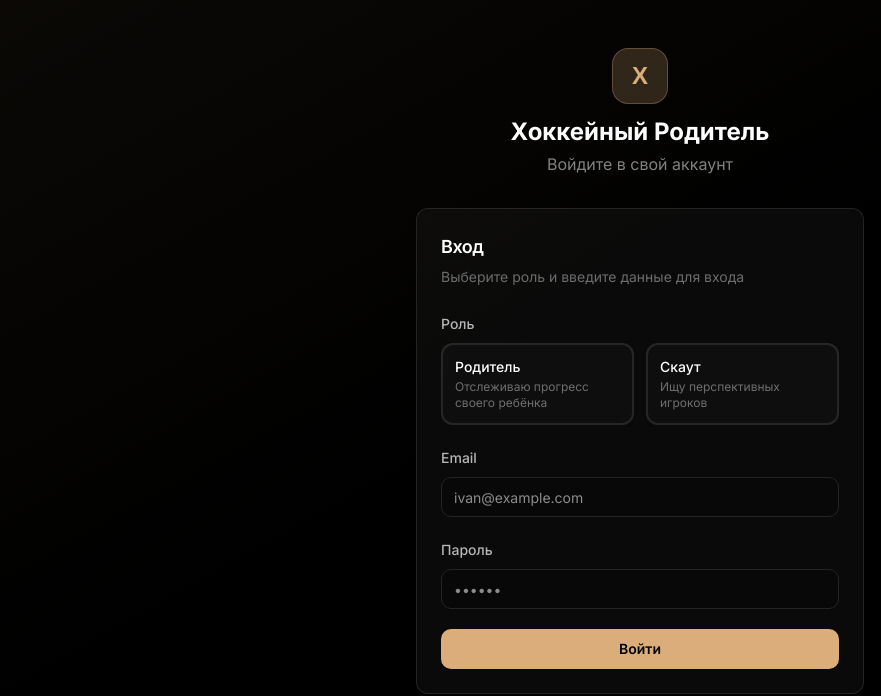
LoginPage › displays API error on login failure
Click the button with aria-label "Роль: Родитель" at [538, 384], box [441,343,634,425]
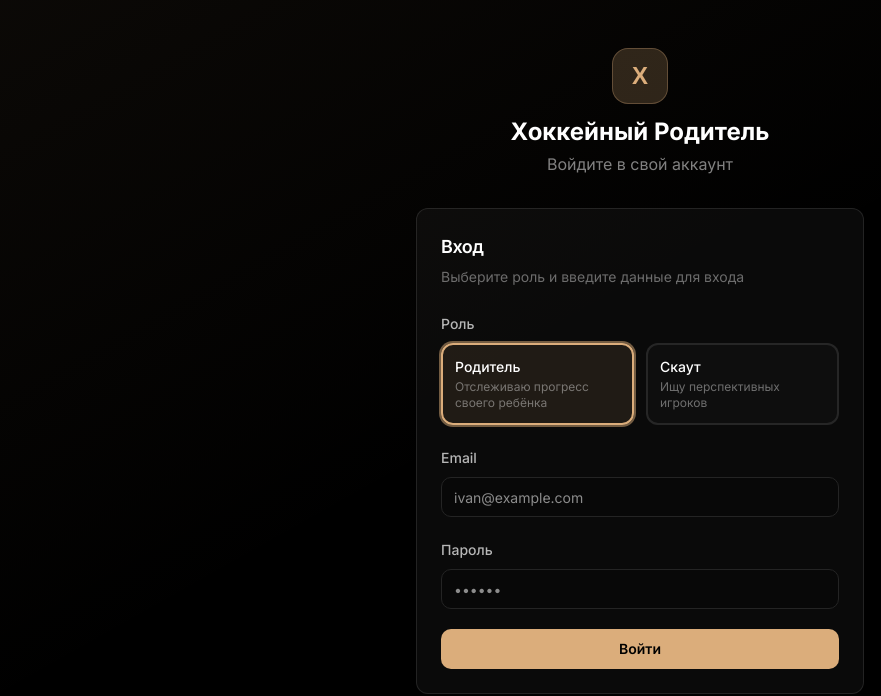
Type "user@test.com" into the field named "Email адрес" at [640, 497], box [441,477,839,517]
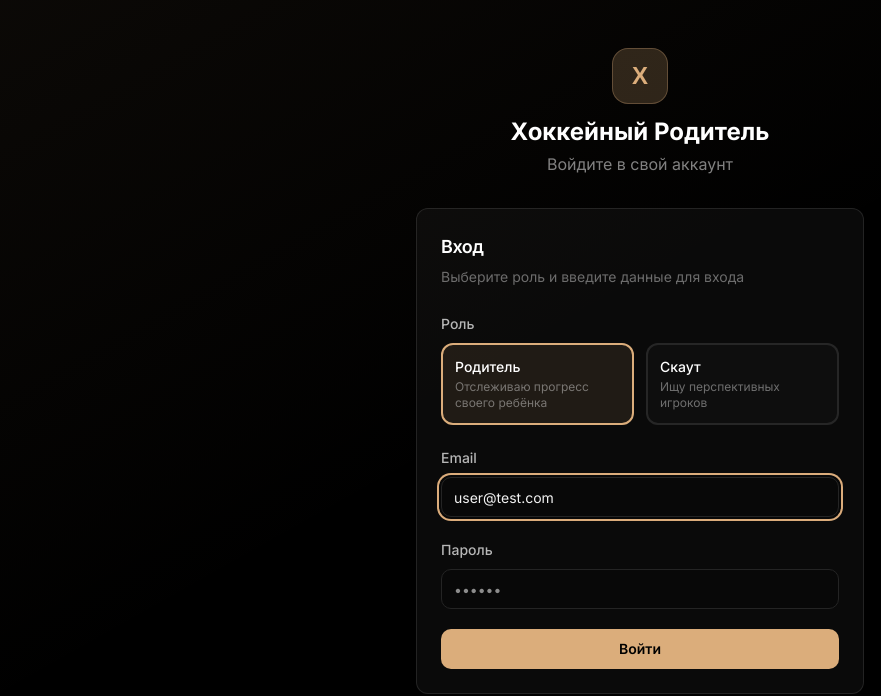
Type "wrongpass" into the password field labelled "Пароль" at [640, 589], box [441,569,839,609]
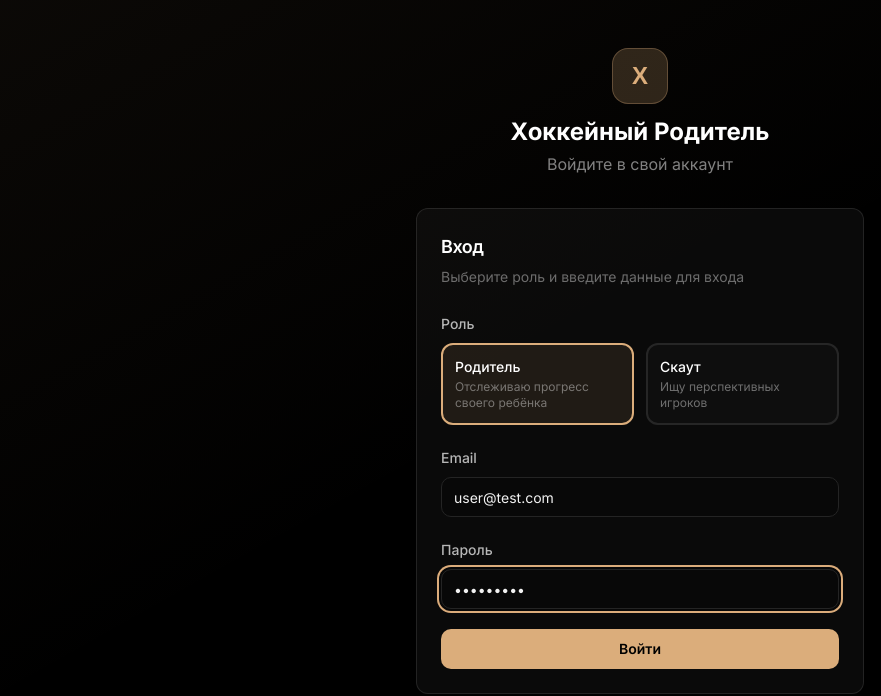
Click the button with aria-label "Войти в аккаунт" at [640, 649], box [441,629,839,669]
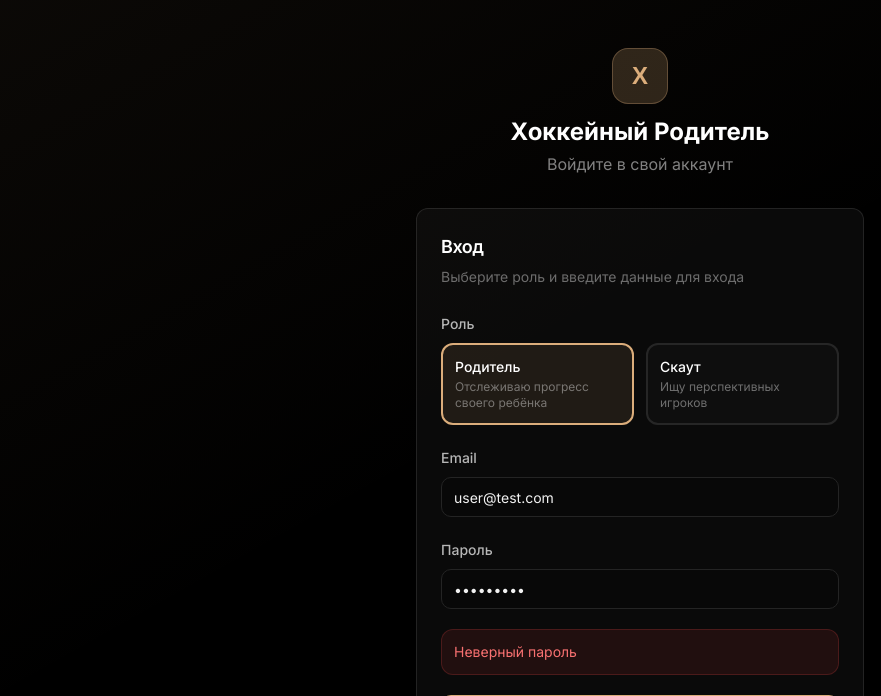
Check: the text "Неверный пароль" is shown, box [441,629,839,675]
